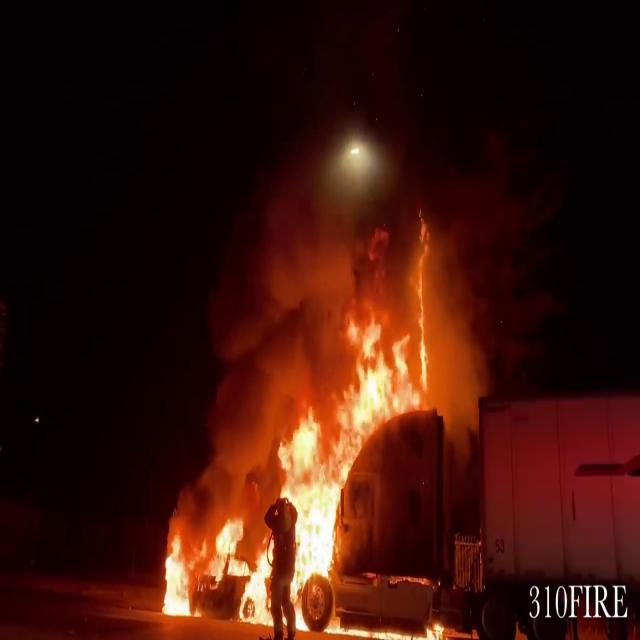Fire: (155, 181, 447, 636)
